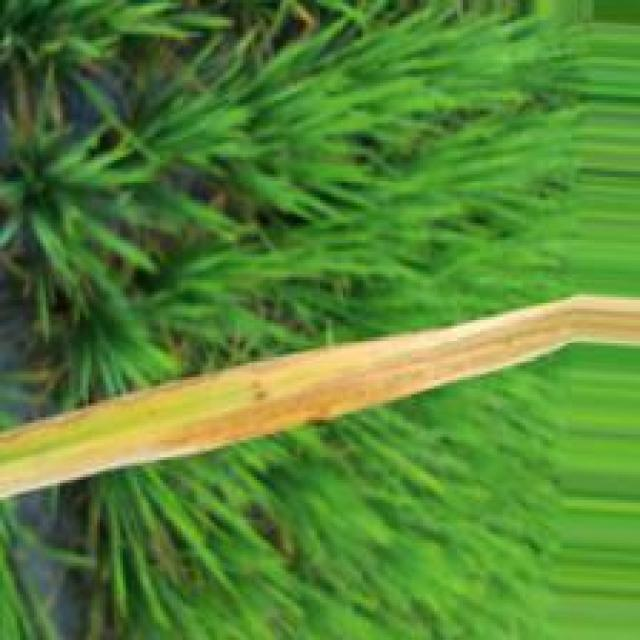Bacterial_Leaf_Blight: (169, 295, 576, 458)
